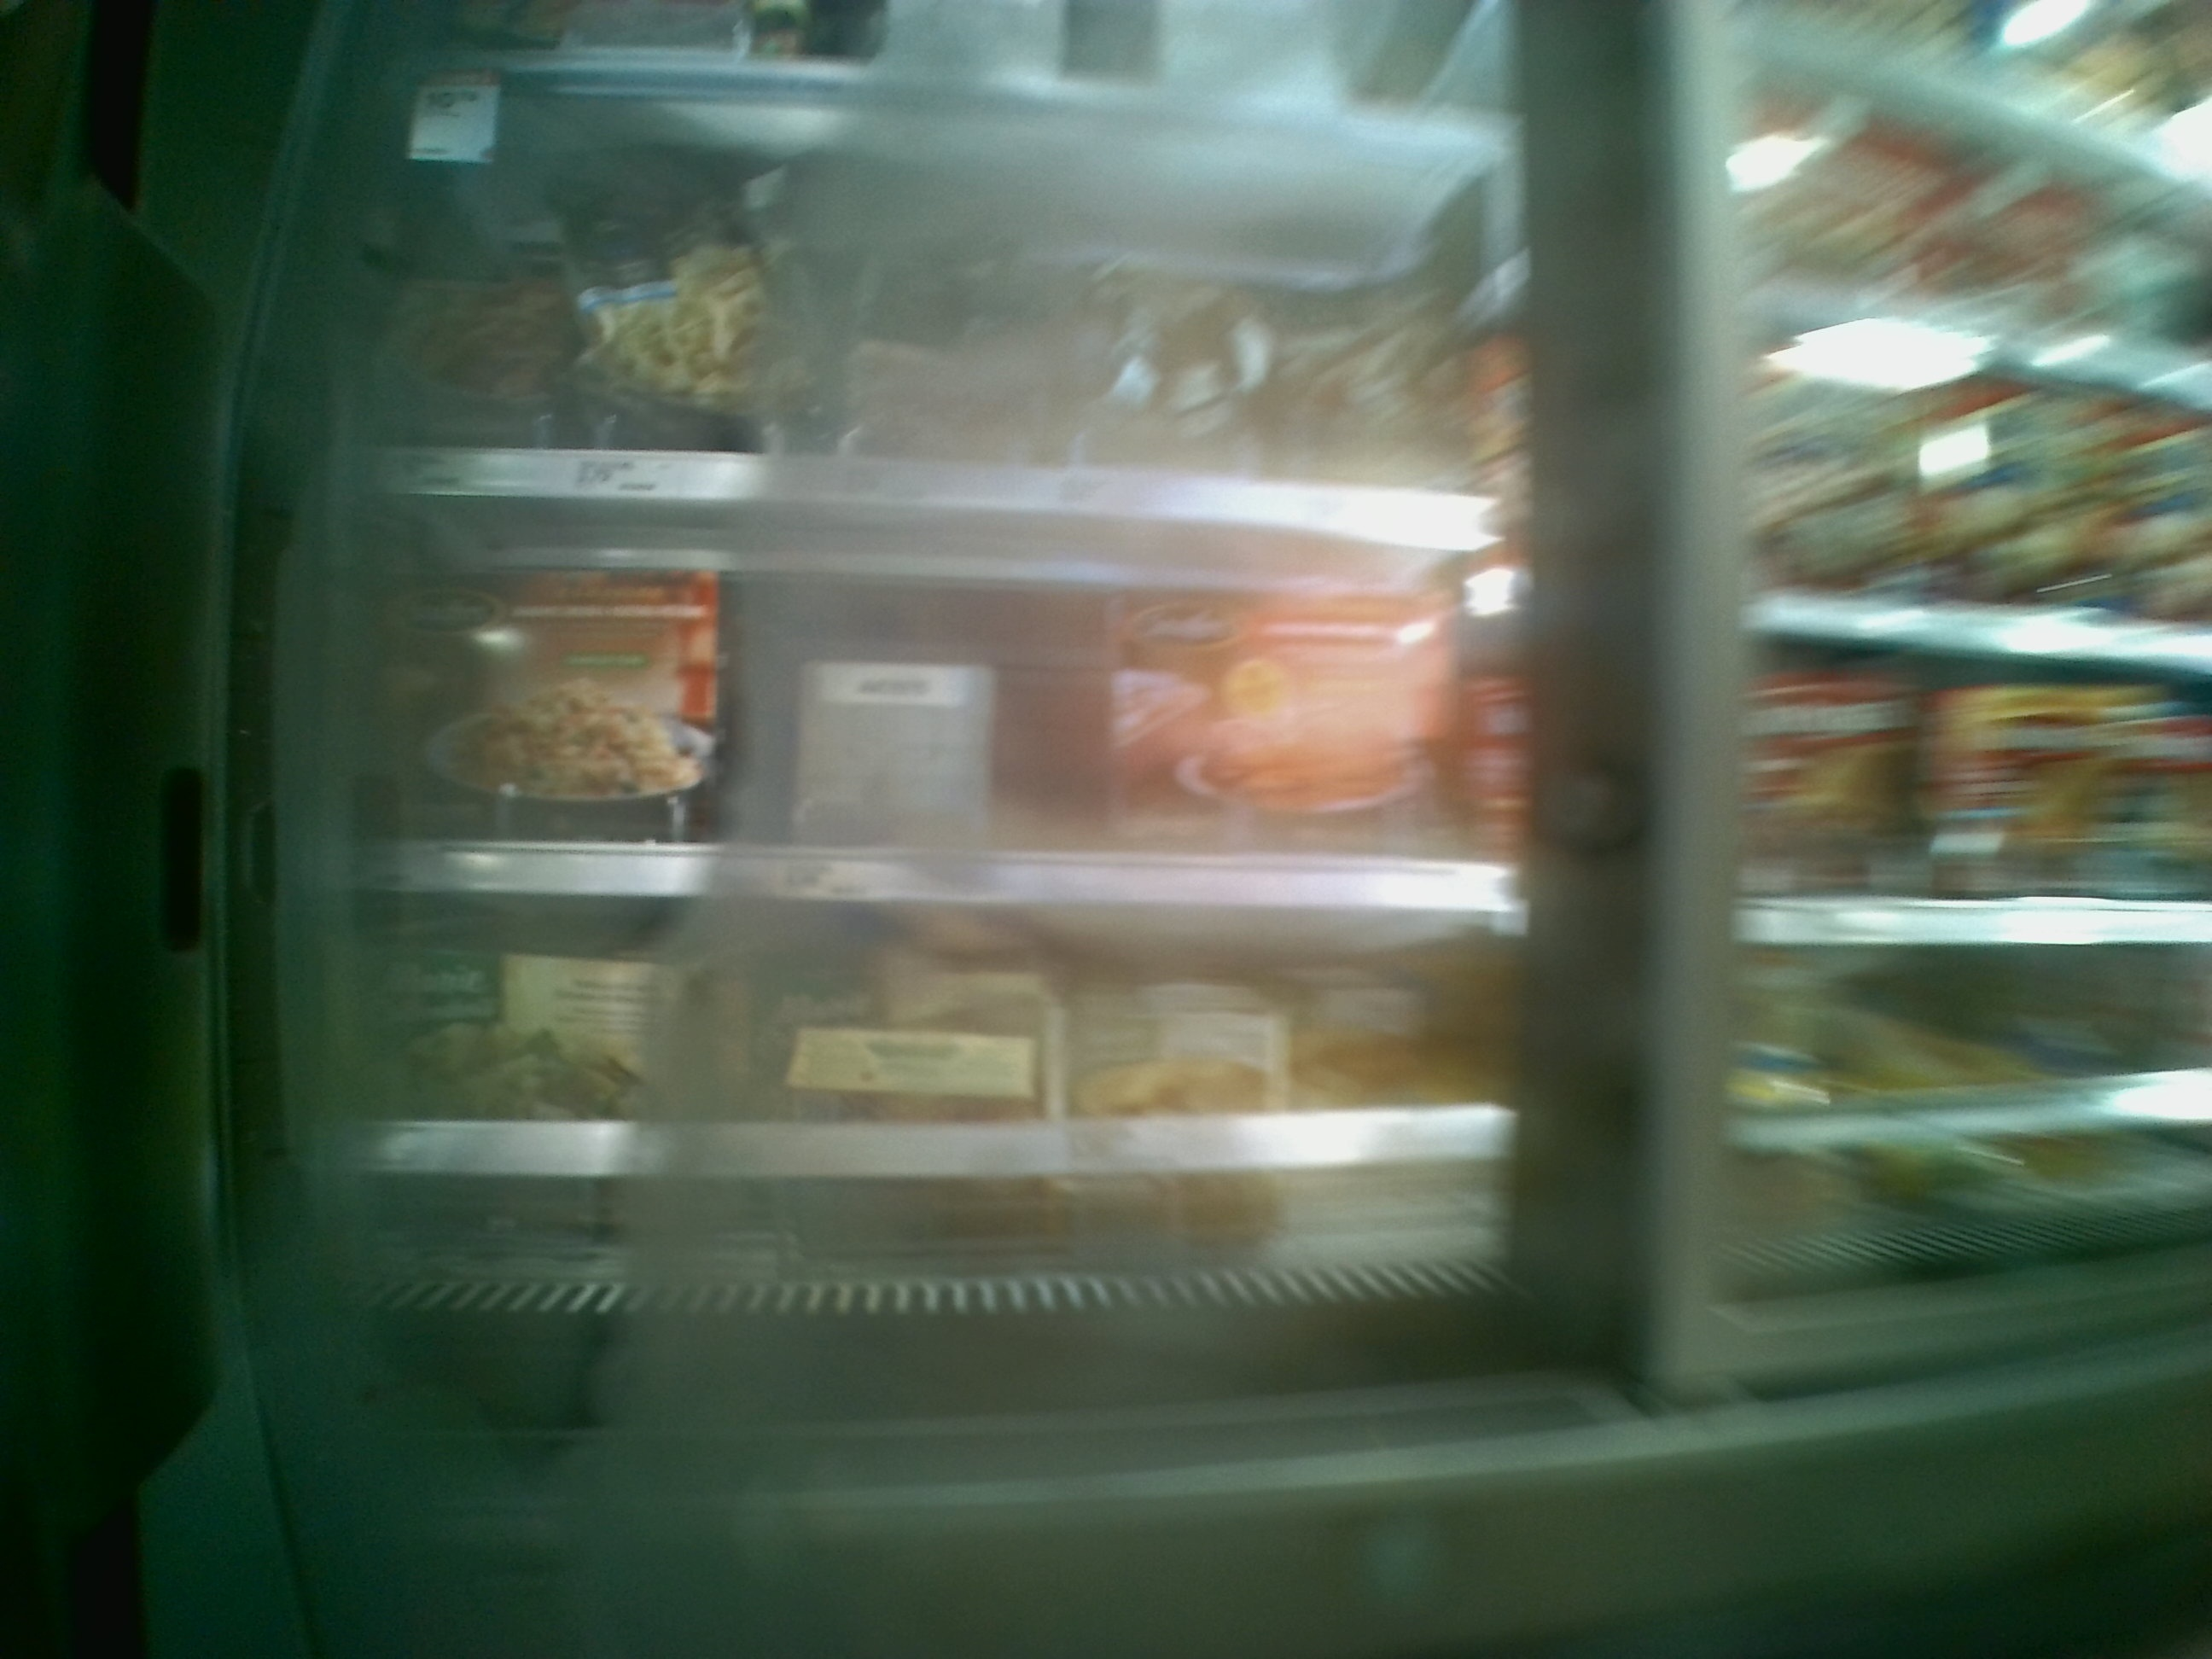shelf: (380, 880, 1507, 1312), (376, 115, 1498, 519), (366, 521, 1508, 911)
